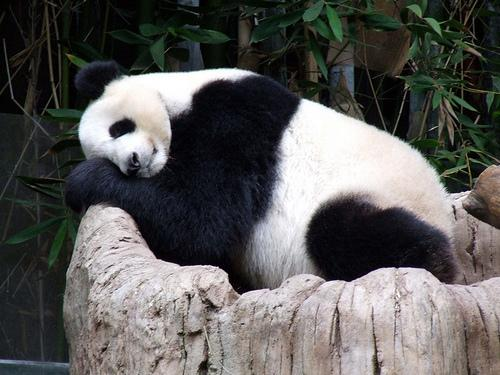panda: (66, 61, 464, 291)
